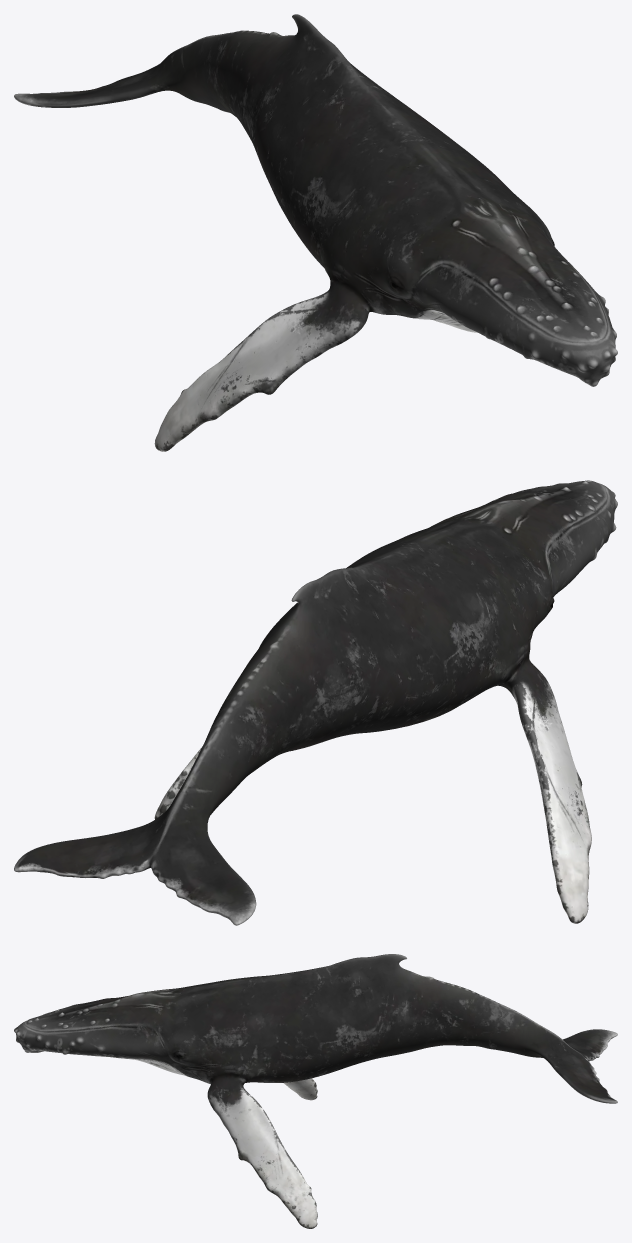
The model's file is whale.glb.
3 renders of one model, top to bottom at view 1: azimuth 30°, elevation 25°; view 2: azimuth 150°, elevation 25°; view 3: azimuth 270°, elevation 25°, orthographic. The views are drawn at different scales.
Visible parts, largest first — view 1: polySurface1; view 2: polySurface1; view 3: polySurface1.
Boxes of the visible parts, x1,y1,x2,y2 form: polySurface1: [14, 14, 617, 451]; polySurface1: [14, 480, 617, 925]; polySurface1: [14, 954, 617, 1228].
Size of the model in its own units: 6.84 by 5.11 by 13.3.
1 material, 1 textured.
